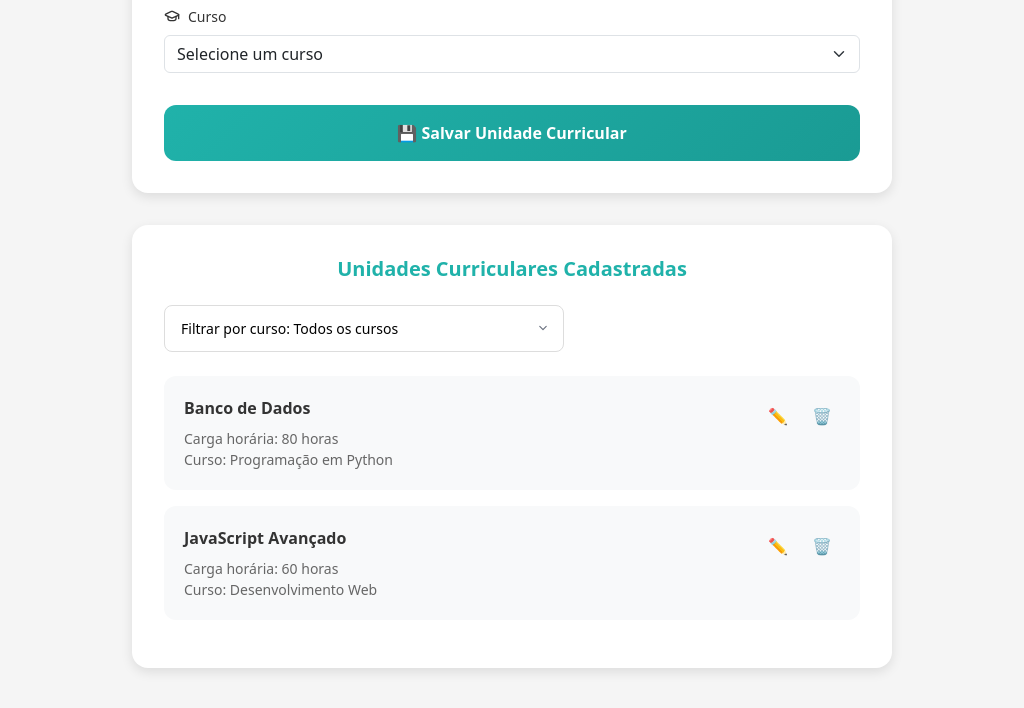
UcsRegistrationPage › filtra UCs por curso selecionado
(page scrolled)
Select "Filtrar por curso: Programação em Python" in the dropdown showing "Filtrar por curso: Todos os cursos" at (364, 328), box [164, 305, 564, 352]
(page scrolled)
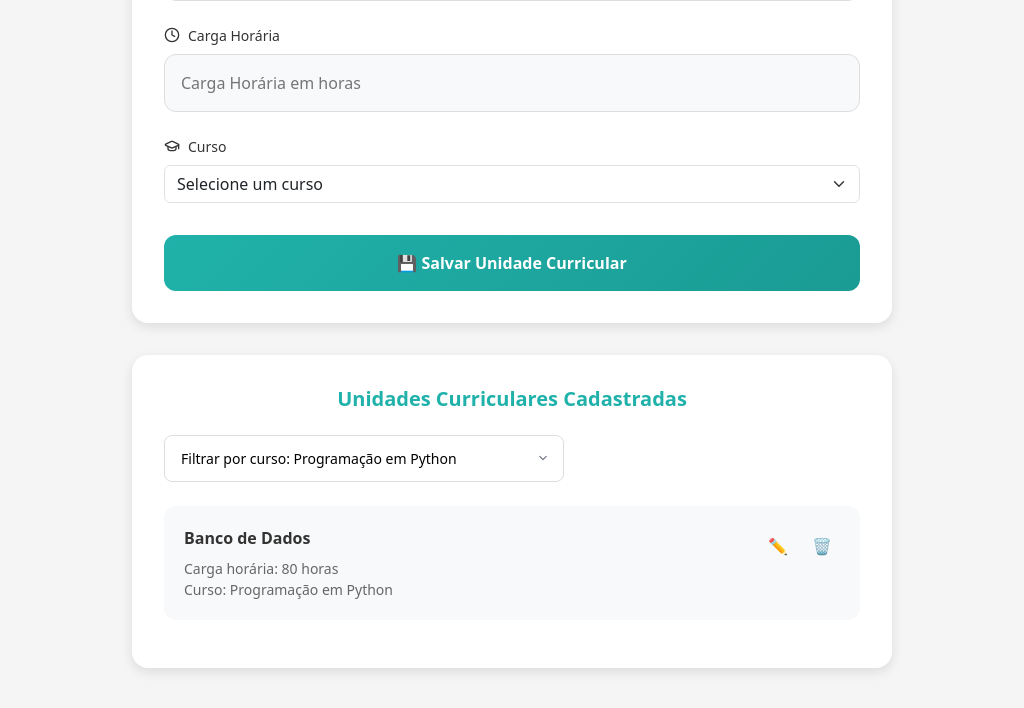
Expected: the text "Banco de Dados" is shown, [184, 527, 310, 549]
Expected: the text "JavaScript Avançado" is gone
